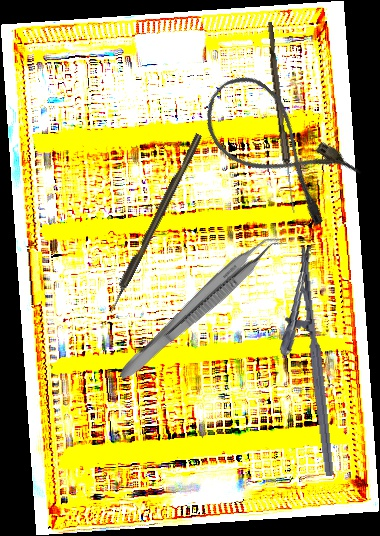Cannula: (188, 63, 366, 231)
Hook Surgical: (105, 132, 204, 315)
Needle Holder: (269, 246, 335, 480)
Surgical Spoon: (263, 21, 299, 214)
Tissue Forceps: (115, 222, 288, 392)
